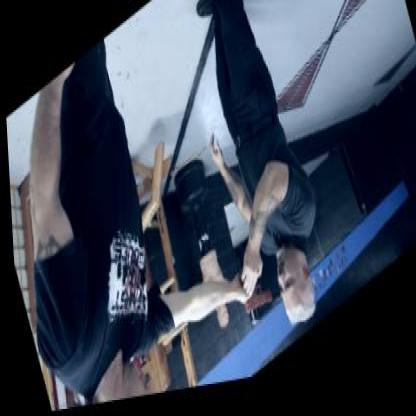pistol: (231, 261, 270, 331)
